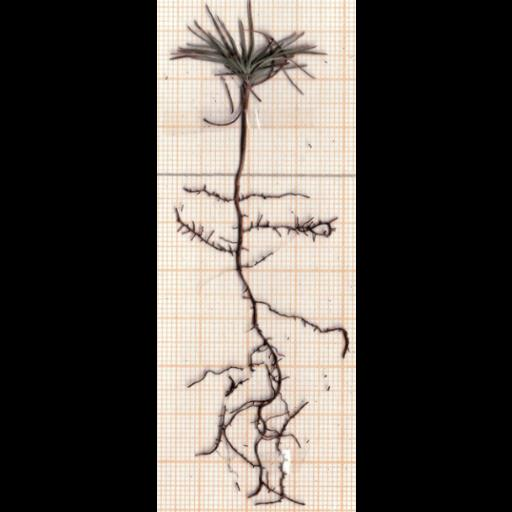flowerCedr: (171, 0, 322, 91)
rootCedr: (173, 189, 344, 505)
stemCedr: (233, 85, 248, 203)
